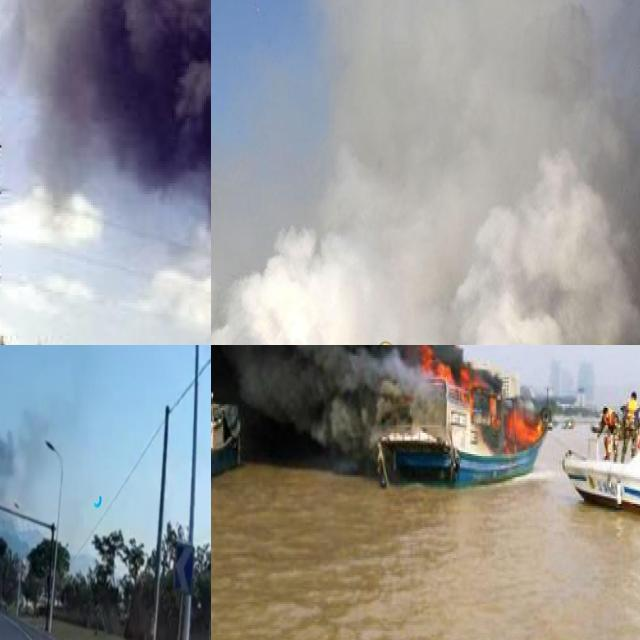fire: (422, 345, 543, 454)
smoke: (2, 0, 211, 345), (329, 0, 640, 214), (211, 345, 440, 446), (215, 255, 350, 345), (423, 312, 582, 345), (0, 419, 17, 543)
